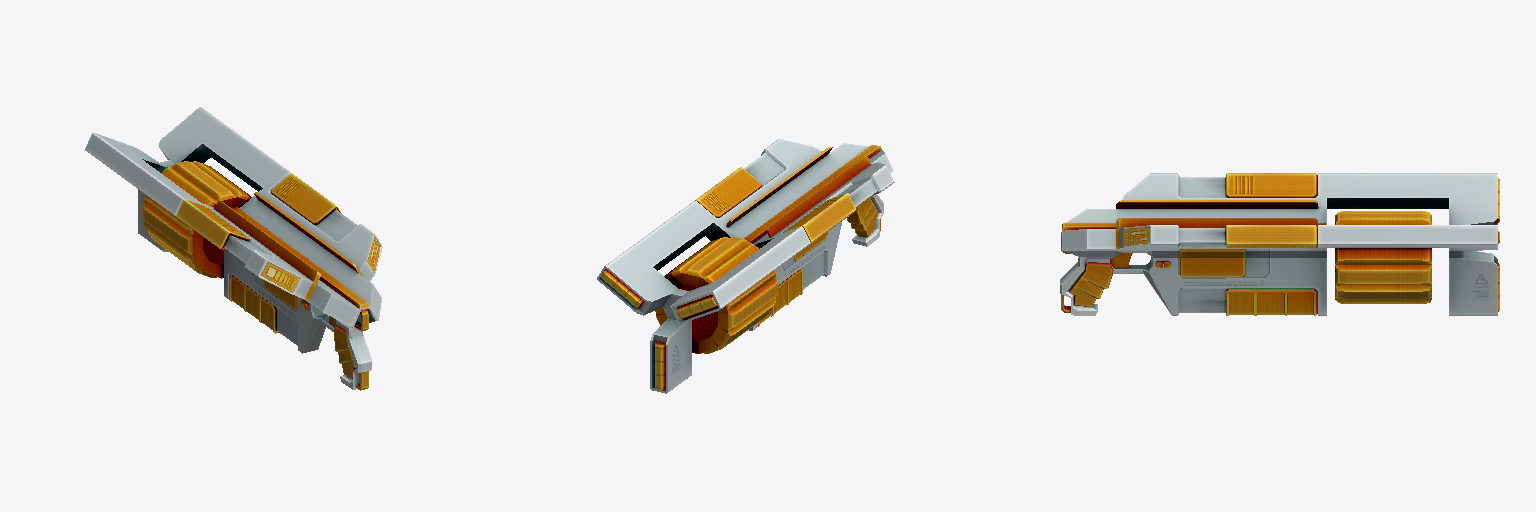
The picture shows the model from 3 angles: view 1: azimuth 30°, elevation 25°; view 2: azimuth 150°, elevation 25°; view 3: azimuth 270°, elevation 25°; orthographic projection.
Parts seen in each view (by area): view 1: bGUN02_body_geomU3D2, bGUN02_ammo_geomU3D1; view 2: bGUN02_body_geomU3D2, bGUN02_ammo_geomU3D1; view 3: bGUN02_body_geomU3D2, bGUN02_ammo_geomU3D1.
Boxes of the visible parts, <box> form: bGUN02_body_geomU3D2: <box>85,107,382,390</box>; bGUN02_ammo_geomU3D1: <box>142,161,251,278</box>; bGUN02_body_geomU3D2: <box>597,139,894,393</box>; bGUN02_ammo_geomU3D1: <box>655,237,777,353</box>; bGUN02_body_geomU3D2: <box>1060,173,1499,315</box>; bGUN02_ammo_geomU3D1: <box>1335,211,1431,303</box>.
Bounding box in the file's own units: 0.1306 × 0.1139 × 0.4014.
Materials: 1 (1 with a texture image).